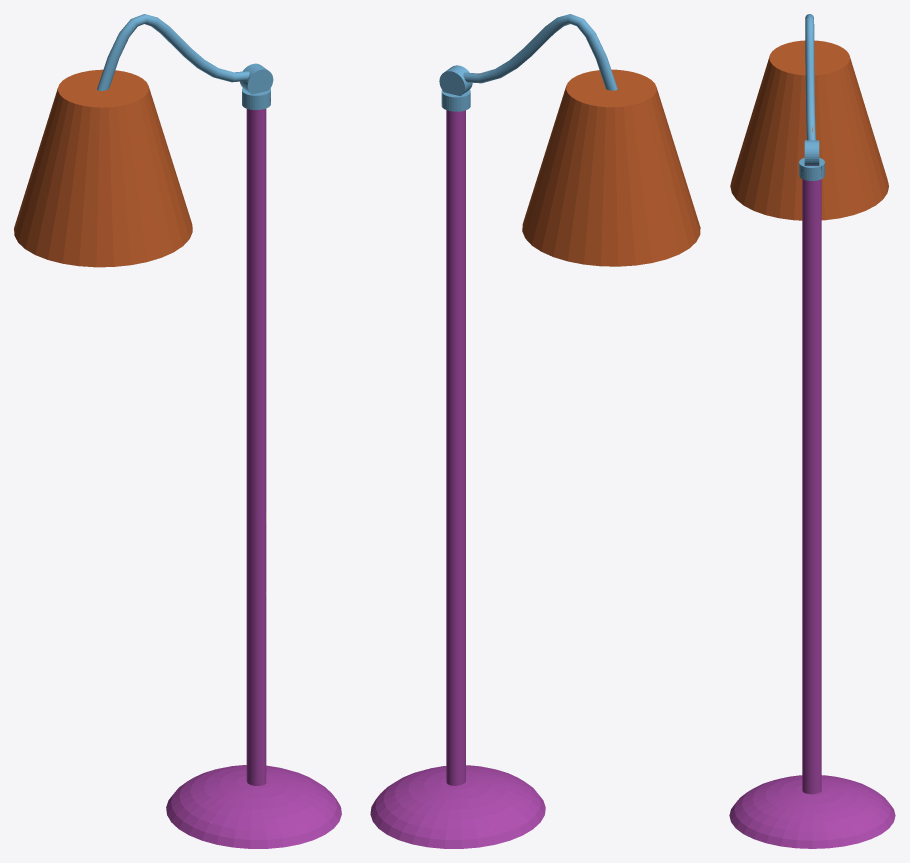
Rendered from lamparaPiso.obj.
3 renders of one model, left to right at view 1: azimuth 30°, elevation 25°; view 2: azimuth 150°, elevation 25°; view 3: azimuth 270°, elevation 25°, orthographic. The views are drawn at different scales.
Visible parts, largest first — view 1: Esfera.001_Esfera.003; view 2: Esfera.001_Esfera.003; view 3: Esfera.001_Esfera.003.
Boxes of the visible parts, x1,y1,x2,y2 form: Esfera.001_Esfera.003: (14,14,341,848); Esfera.001_Esfera.003: (370,14,700,848); Esfera.001_Esfera.003: (729,14,895,848).
Bounding box in the file's own units: 5.69 × 14.67 × 2.95.
Materials: 1 (1 with a texture image).
